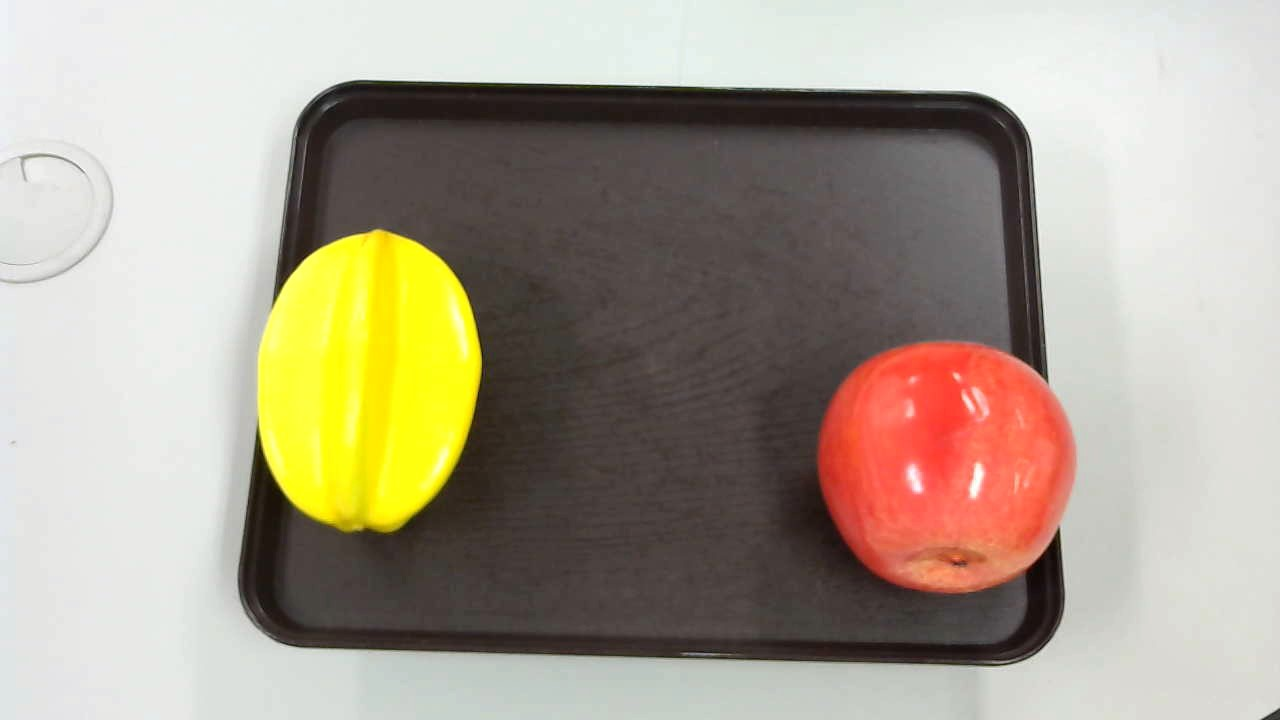red apple: (810, 341, 1078, 596)
star fruit: (249, 228, 482, 548)
